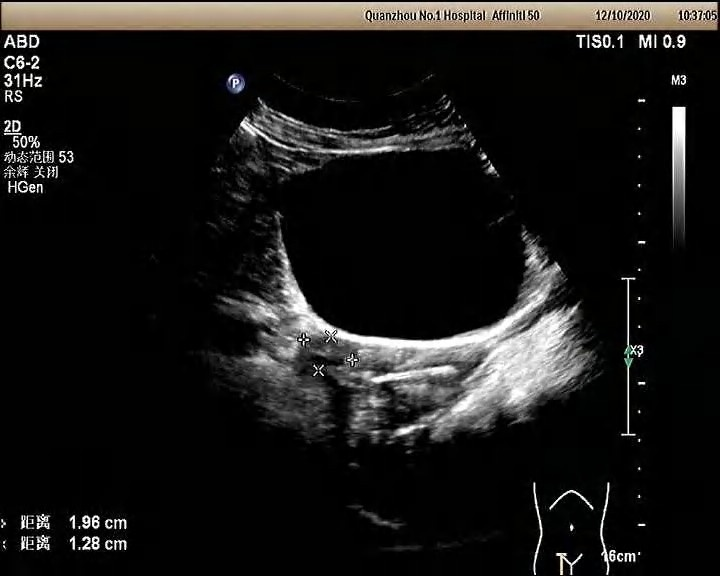肌瘤: (302, 336, 355, 372)
